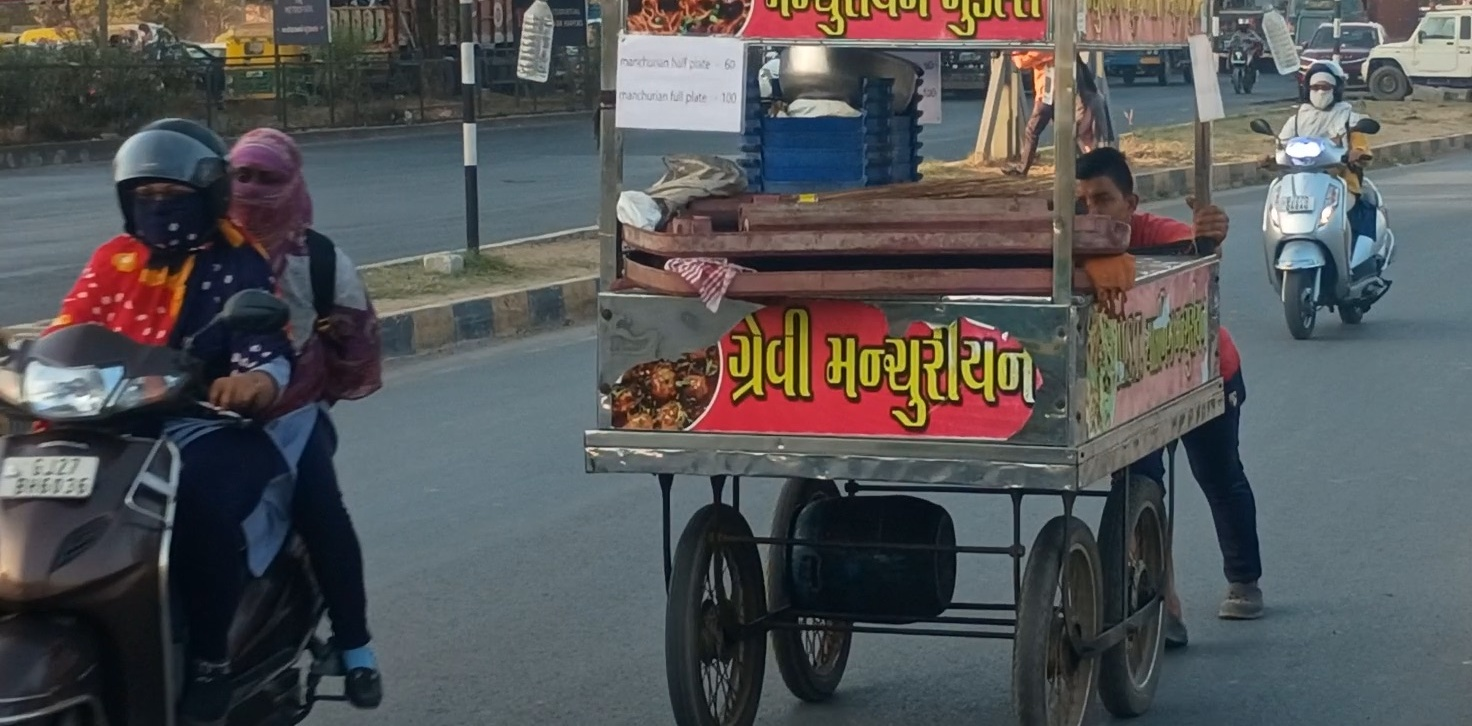BikeWithRider: (0, 103, 412, 726), (1239, 50, 1406, 344), (1215, 11, 1273, 96)
Helmet: (100, 113, 242, 258), (1294, 57, 1352, 115)
NoHelmet: (215, 120, 322, 240)
